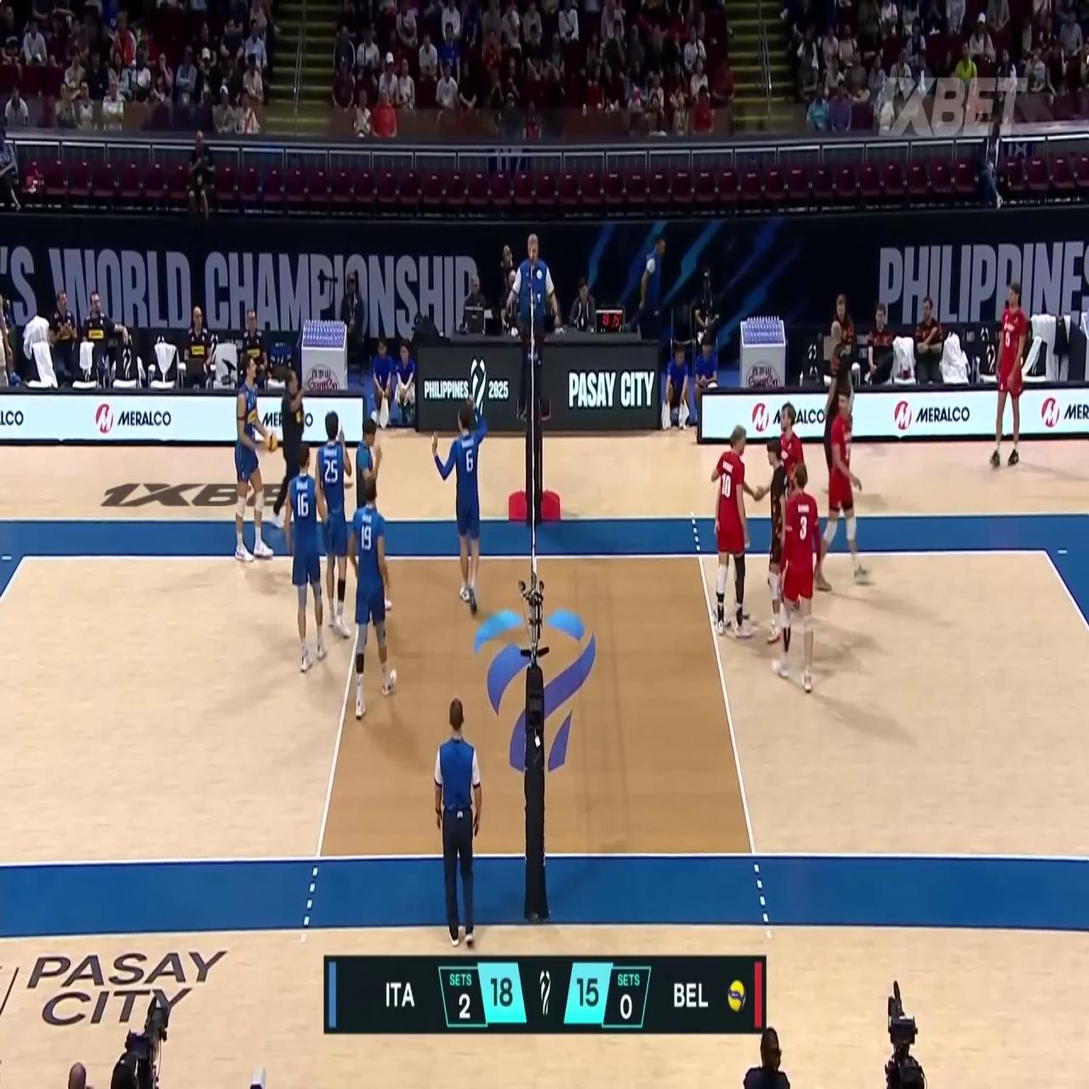ball: (265, 430, 277, 452)
